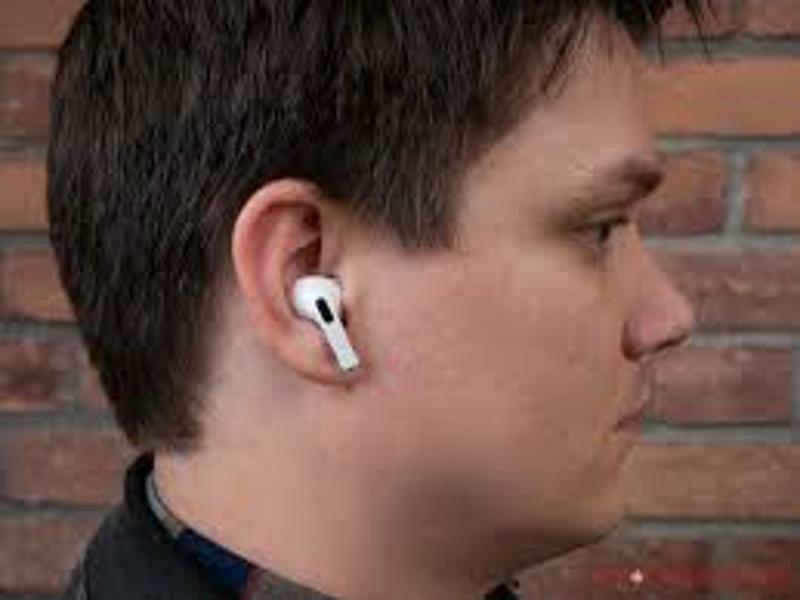headphone: (286, 271, 366, 375)
